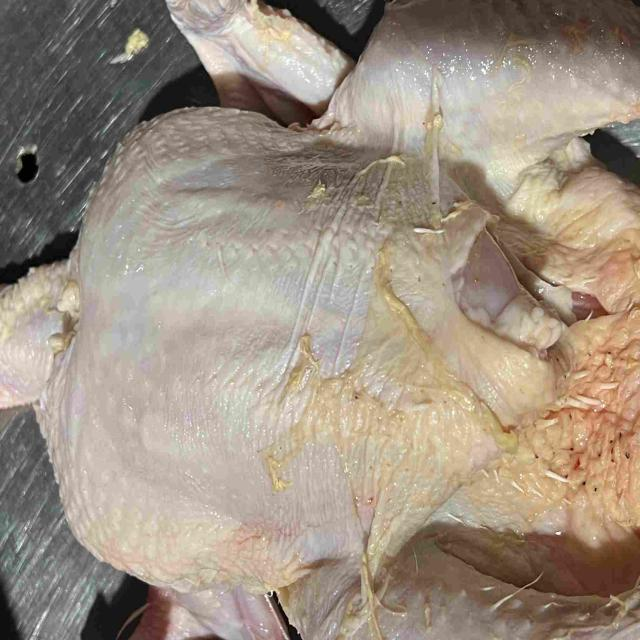breast: (48, 110, 551, 585)
leg: (325, 0, 640, 169), (281, 543, 640, 640)
neck: (0, 251, 80, 409)
wing: (168, 0, 352, 127), (123, 580, 294, 640)
